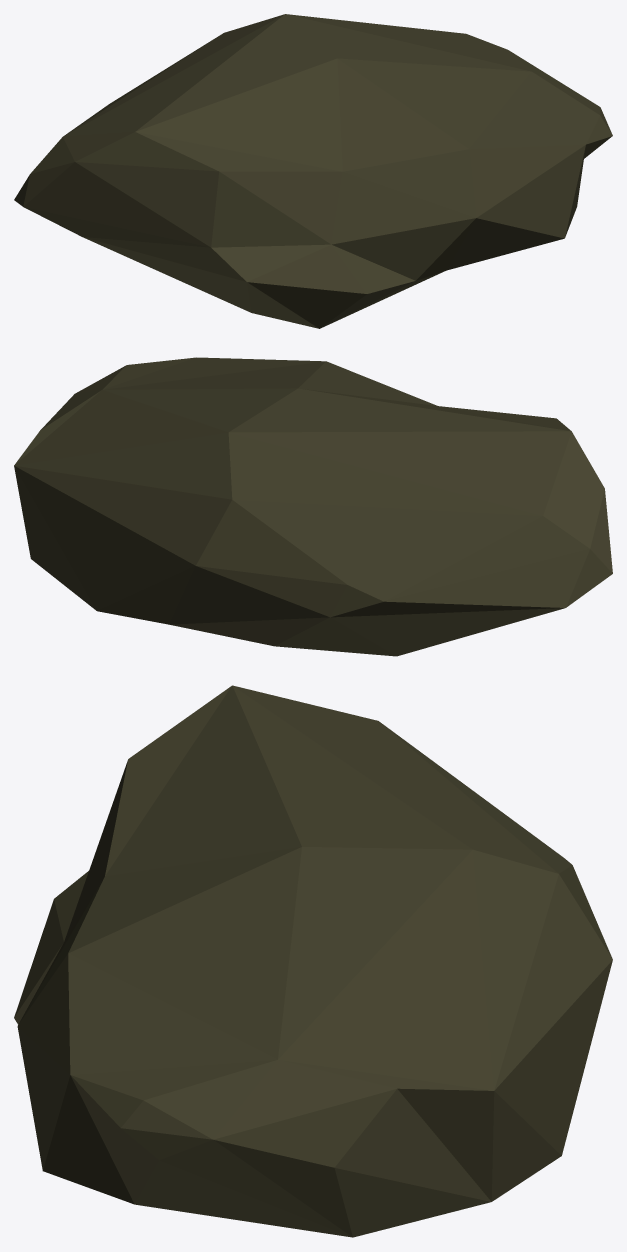
The model's file is ADDON_STONES_STONE_01_84P.OBJ.
The picture shows the model from 3 angles, top to bottom: view 1: azimuth 30°, elevation 25°; view 2: azimuth 150°, elevation 25°; view 3: azimuth 270°, elevation 25°; orthographic projection. The views are drawn at different scales.
Parts seen in each view (by area): view 1: ADDON_STONES_STONE_01_84P; view 2: ADDON_STONES_STONE_01_84P; view 3: ADDON_STONES_STONE_01_84P.
Part boxes in pixels (x1,y1,x2,y2): ADDON_STONES_STONE_01_84P: [14, 14, 612, 328]; ADDON_STONES_STONE_01_84P: [14, 357, 612, 656]; ADDON_STONES_STONE_01_84P: [14, 685, 612, 1237].
Size of the model in its own units: 3.81 by 1.3 by 2.5.
